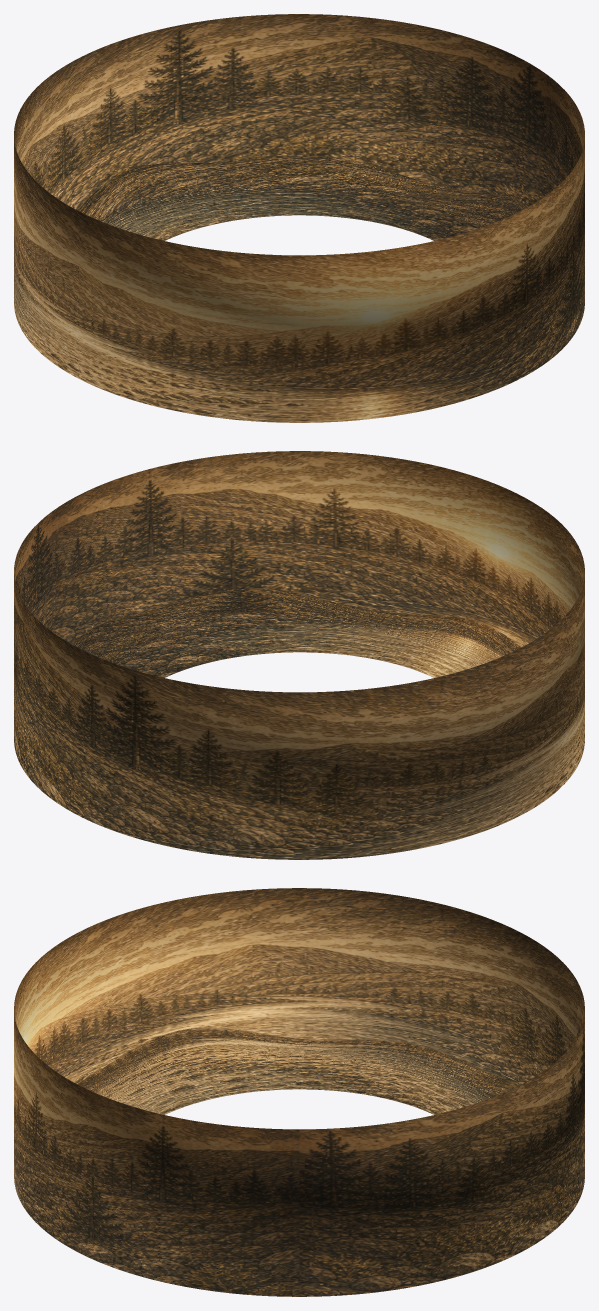
File: river-panorama.glb
3 renders of one model, top to bottom at view 1: azimuth 30°, elevation 25°; view 2: azimuth 150°, elevation 25°; view 3: azimuth 270°, elevation 25°, orthographic.
Visible parts, largest first — view 1: RiverPanorama; view 2: RiverPanorama; view 3: RiverPanorama.
Part boxes in pixels (x1,y1,x2,y2): RiverPanorama: (14, 14, 584, 422); RiverPanorama: (14, 451, 584, 859); RiverPanorama: (14, 888, 584, 1296).
Bounding box in the file's own units: 380 × 123 × 380.
1 material, 1 textured.
